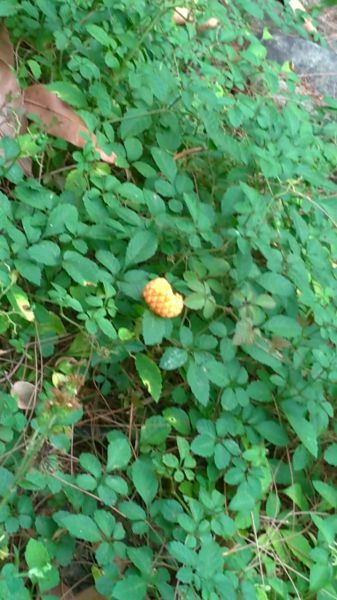eggs: (137, 272, 186, 323)
